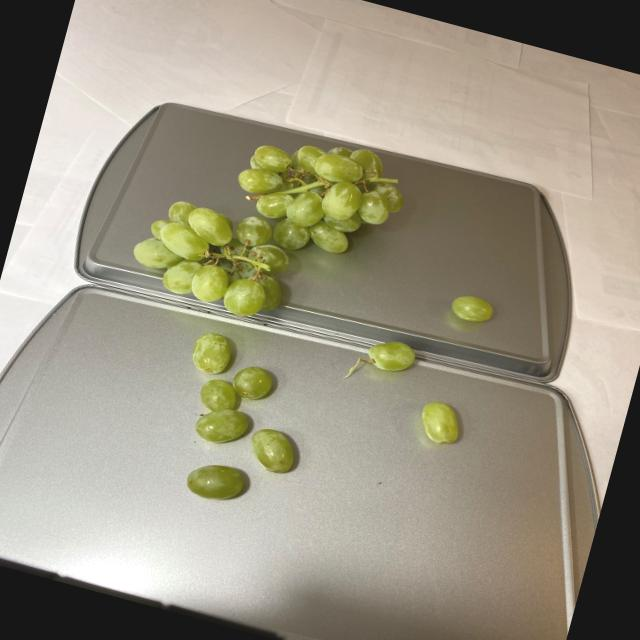grapes: (125, 98, 412, 346), (156, 328, 320, 518), (349, 271, 501, 449)
